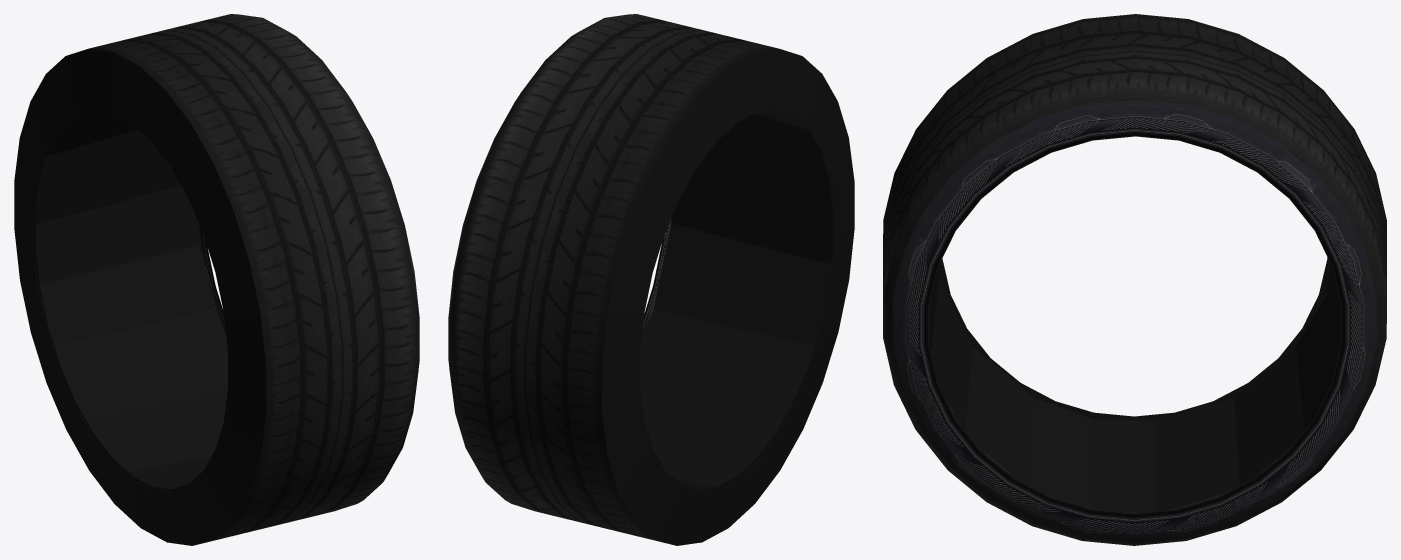
The model's file is 030_Tire.fbx.
3 views of the same model, side by side, from view 1: azimuth 30°, elevation 25°; view 2: azimuth 150°, elevation 25°; view 3: azimuth 270°, elevation 25° (orthographic).
Visible parts, largest first — view 1: 030_Tire; view 2: 030_Tire; view 3: 030_Tire.
Boxes of the visible parts, x1,y1,x2,y2 form: 030_Tire: [14, 14, 419, 545]; 030_Tire: [448, 14, 854, 545]; 030_Tire: [883, 14, 1386, 545].
Bounding box in the file's own units: 0.2863 × 0.7186 × 0.7117.
